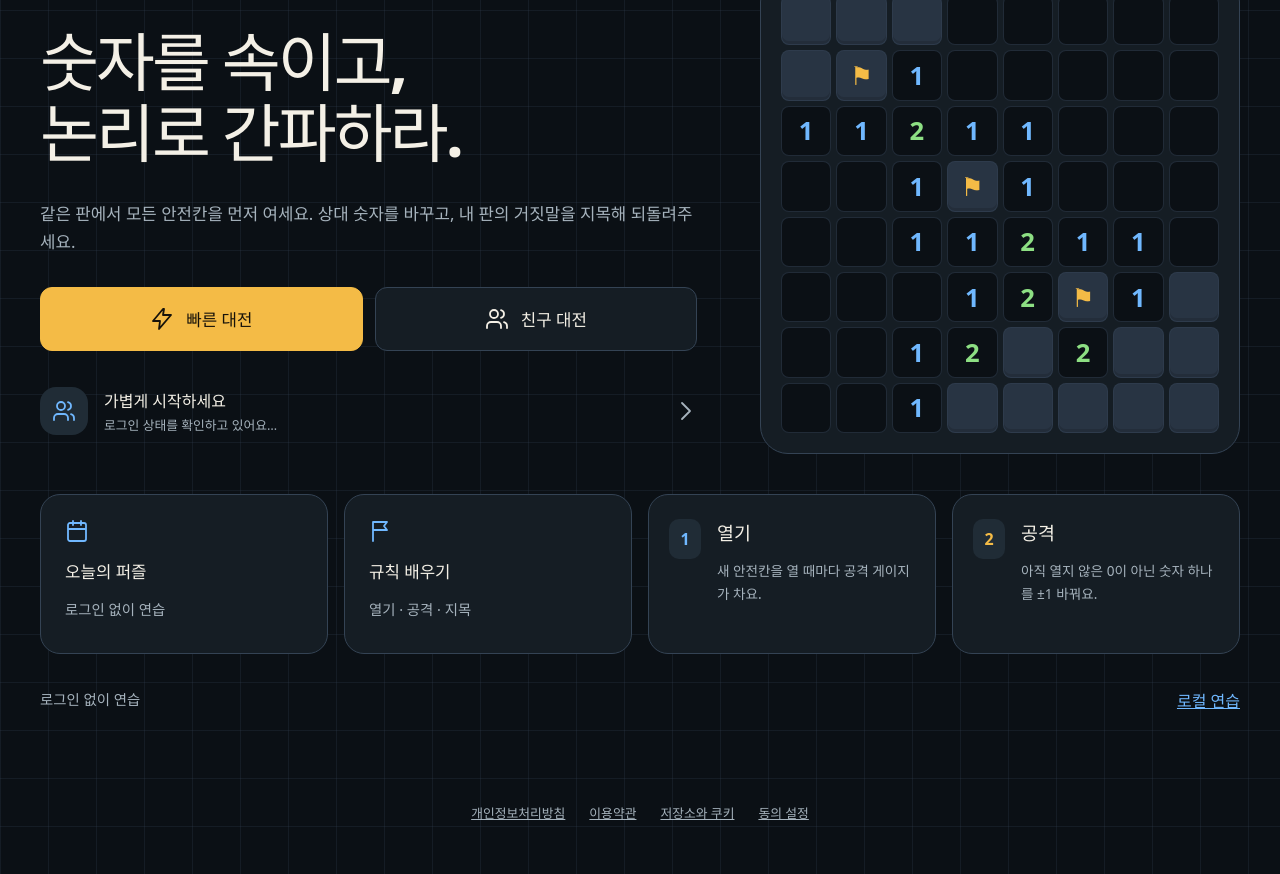
ko renders each purpose and clearing boundary in its own locale
(page scrolled)
Click the link "저장소와 쿠키": x=697, y=812 [660,804,734,822]
(page scrolled)
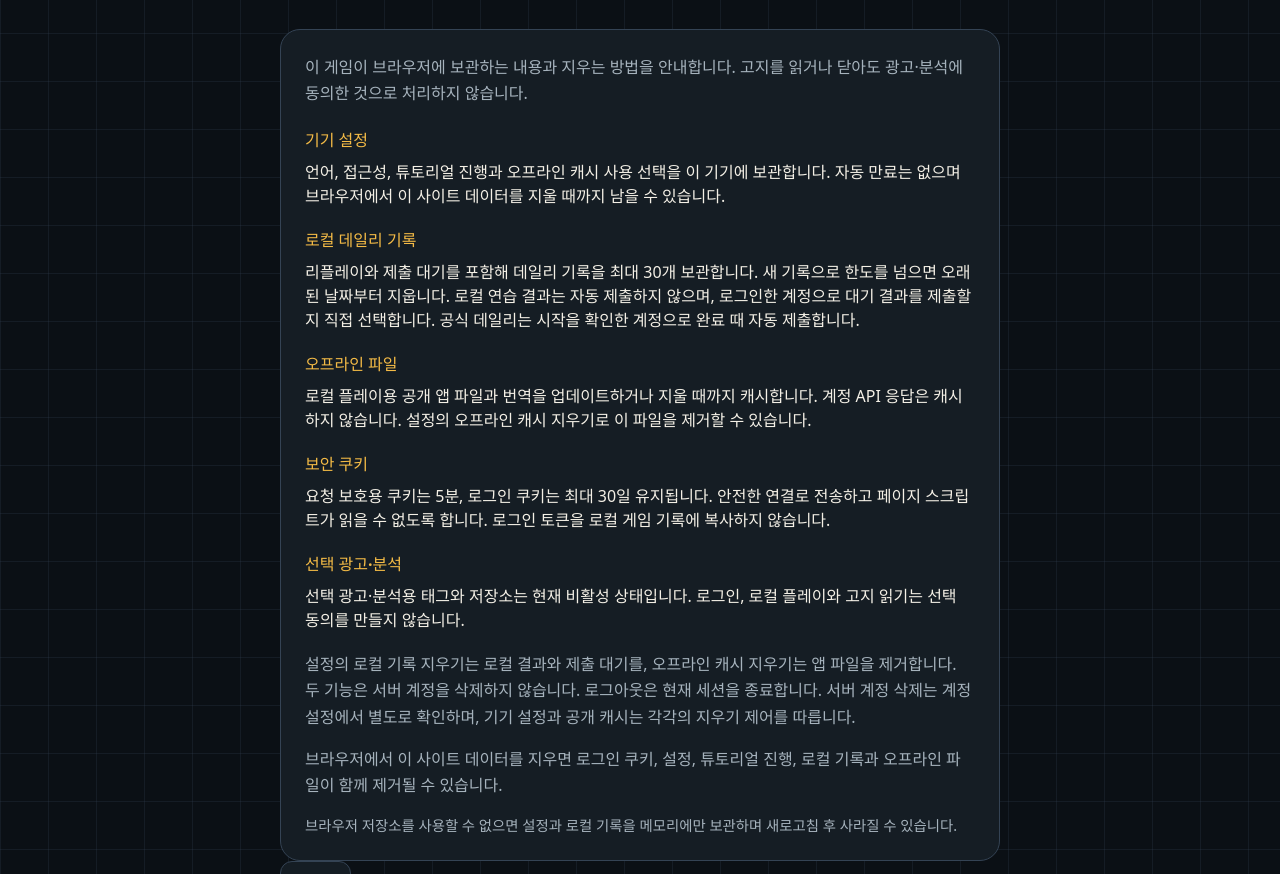
expect the text "기기 설정" is shown: met, box [305,129,368,151]
expect the text "언어, 접근성, 튜토리얼 진행과 오프라인 캐시 사용 선택을 이 기기에 보관합니다. 자동 만료는 없으며 브라우저에서 이 사이트 데이터를 지울 때까지 남을 수 있습니다." is shown: met, box [305,161,961,207]
expect the text "로컬 데일리 기록" is shown: met, box [305,229,416,251]
